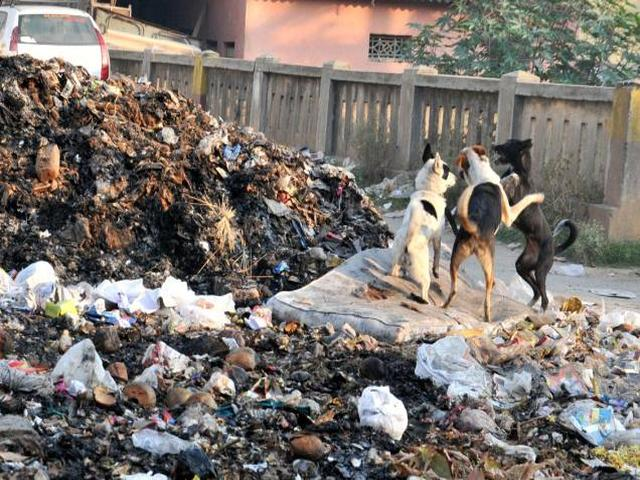garbage: (14, 79, 260, 468), (267, 326, 632, 463), (273, 153, 354, 264)
